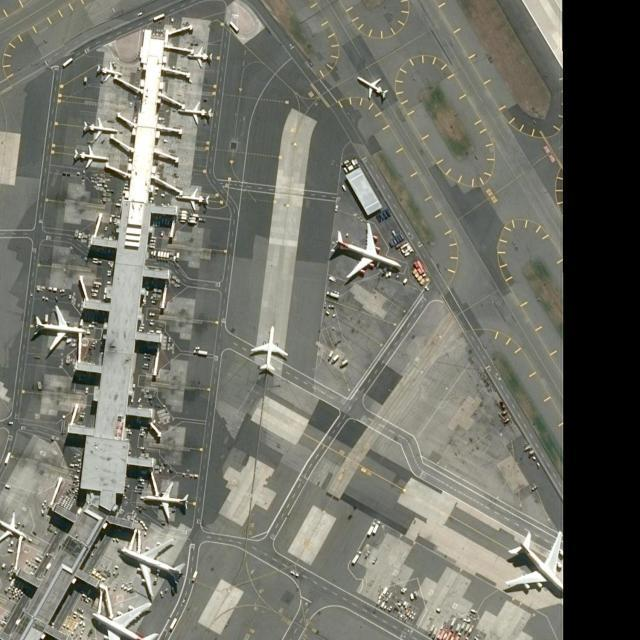Aircraft: (501, 529, 565, 603), (330, 223, 402, 286), (118, 542, 188, 600), (32, 306, 86, 356), (87, 604, 159, 640), (140, 480, 190, 524), (250, 329, 288, 375), (355, 73, 391, 104), (177, 186, 213, 217), (0, 513, 29, 547), (179, 101, 214, 128), (80, 120, 116, 144), (188, 46, 216, 73), (74, 153, 106, 176), (91, 63, 121, 87)
